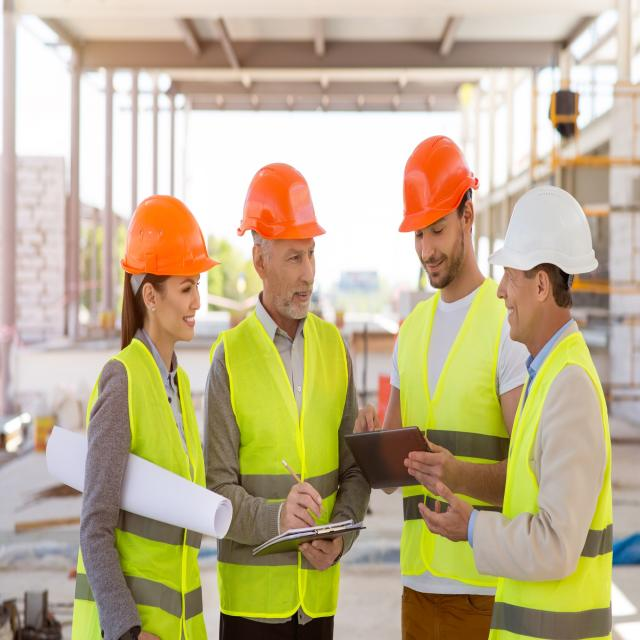helmet: (488, 184, 600, 276), (120, 192, 224, 279), (397, 134, 479, 235), (236, 162, 328, 241)
vest: (208, 307, 344, 618), (74, 339, 208, 640), (488, 329, 616, 640), (395, 276, 515, 588)
